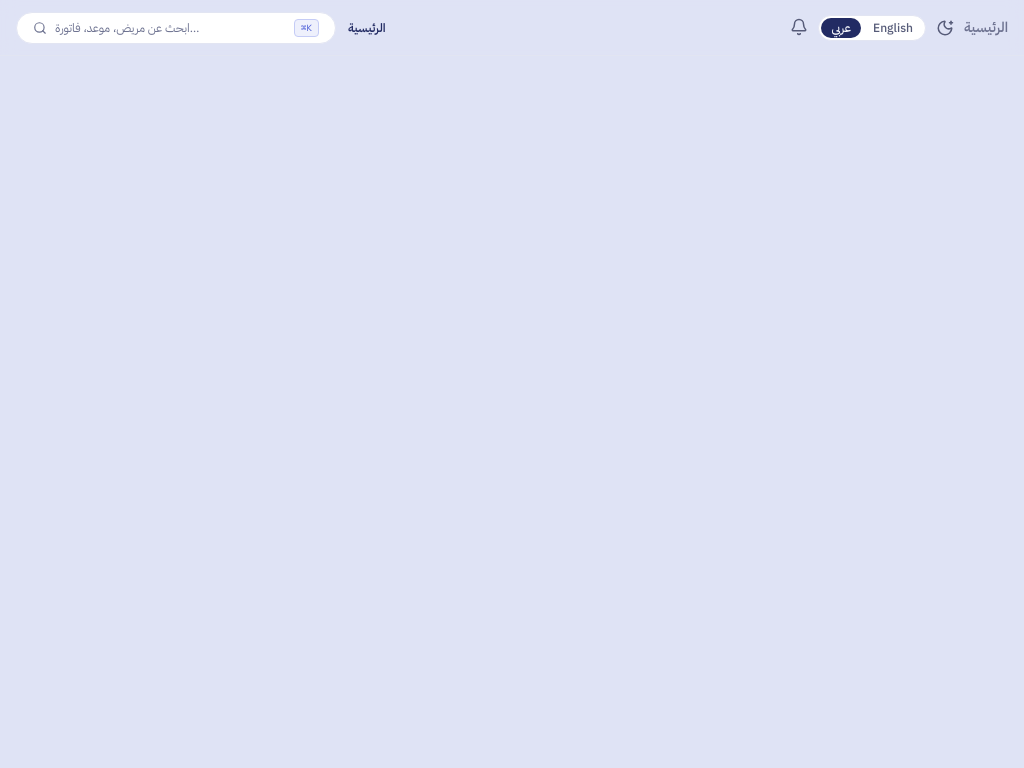
Test: الشريط العلوي على هوية المرجع › الجرس بلا شارات يظهر بلا عدّاد وقائمته تعرض حالة فارغة
The image size is (1024, 768).
Click the button named "التنبيهات" at (799, 27), box [784,12,814,42]
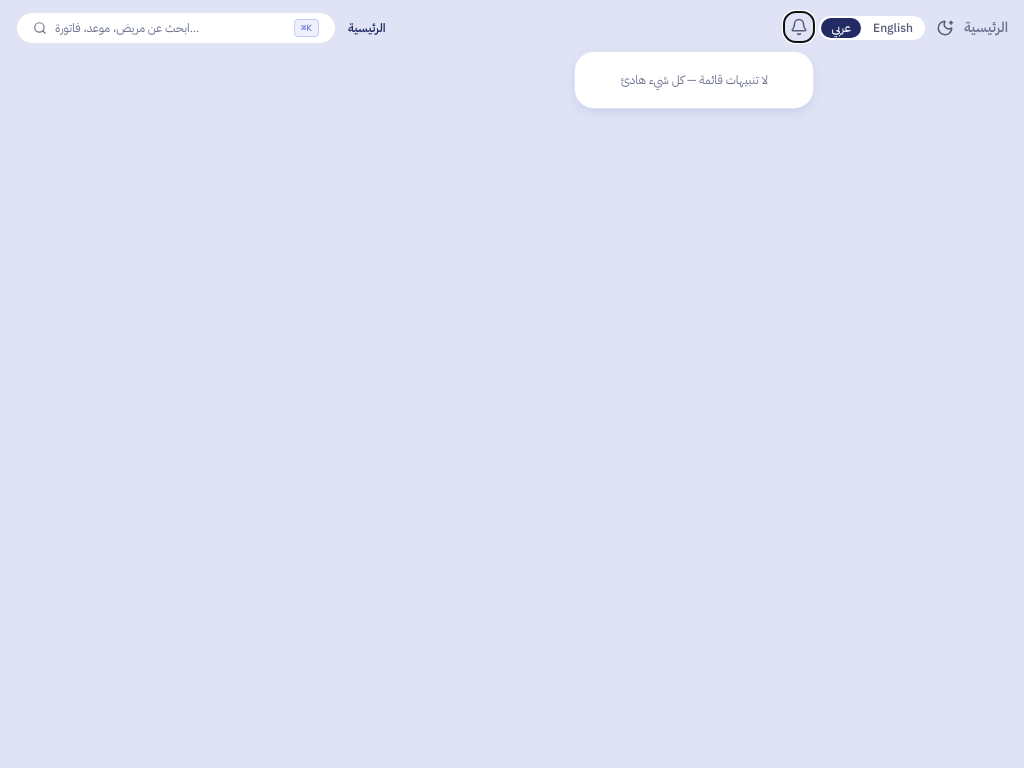
Check: the text "لا تنبيهات قائمة — كل شيء هادئ" is shown, box [621,71,768,89]
